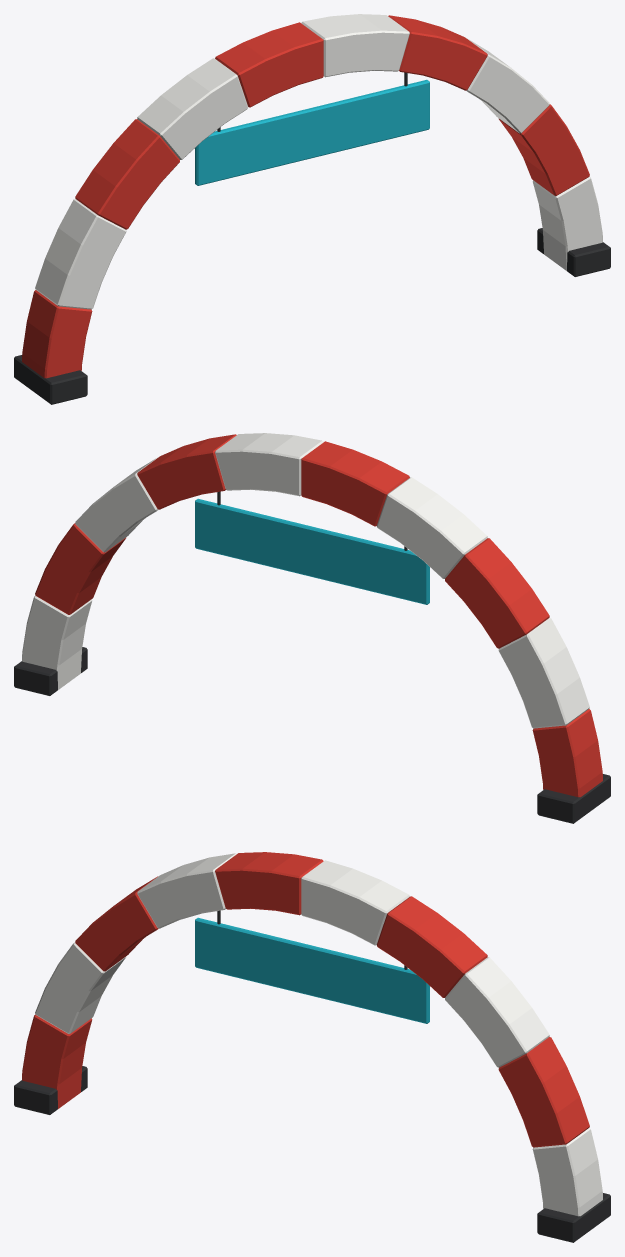
The model's file is checkpoint_arch.obj.
The picture shows the model from 3 angles, top to bottom: view 1: azimuth 30°, elevation 25°; view 2: azimuth 150°, elevation 25°; view 3: azimuth 330°, elevation 25°; orthographic projection.
Visible parts, largest first — view 1: checkpoint_arch; view 2: checkpoint_arch; view 3: checkpoint_arch.
Part boxes in pixels (x1,y1,x2,y2): checkpoint_arch: (14,14,610,404); checkpoint_arch: (14,433,610,823); checkpoint_arch: (14,852,610,1242).
Bounding box in the file's own units: 12 × 6 × 1.4.
